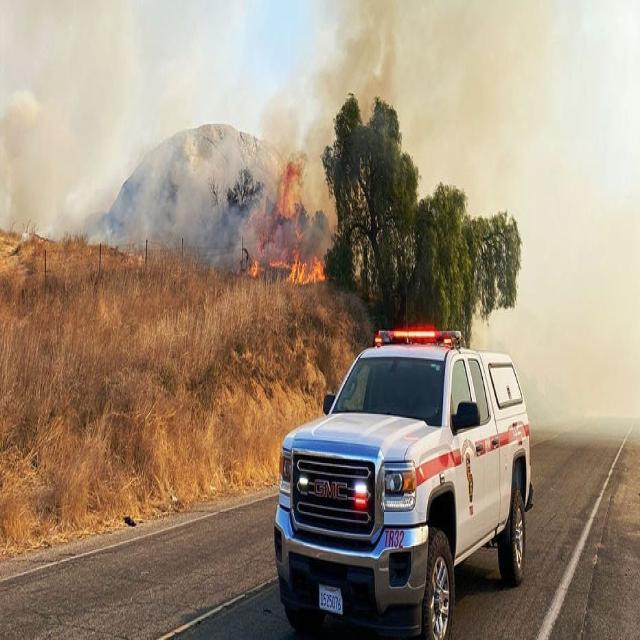Fire: (246, 149, 326, 290)
Smoke: (0, 0, 252, 273), (247, 0, 423, 239)
